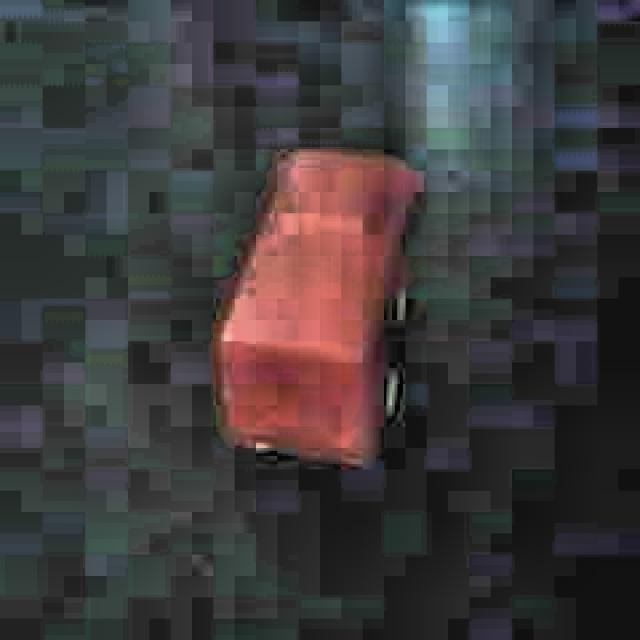bus: (210, 136, 425, 477)
